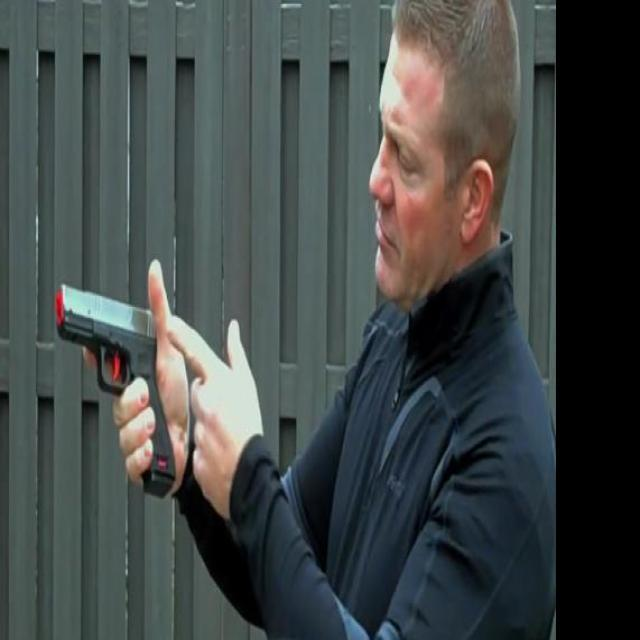gun: (50, 276, 182, 496)
